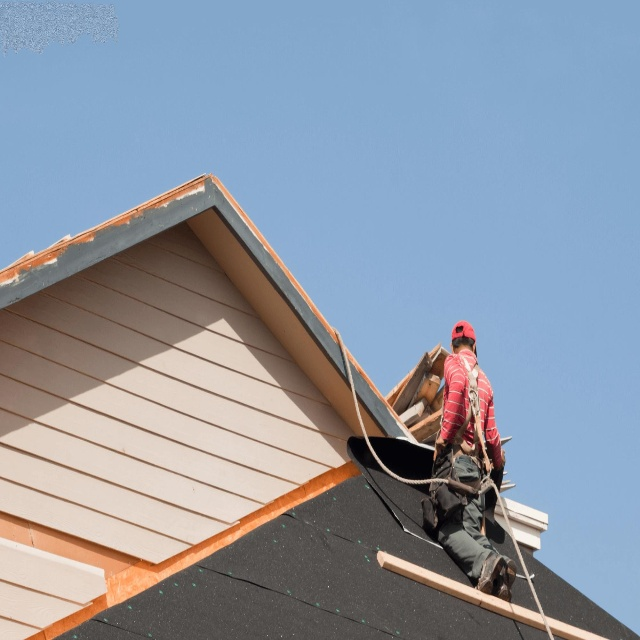Arnes_seguridad: (444, 354, 492, 481)
